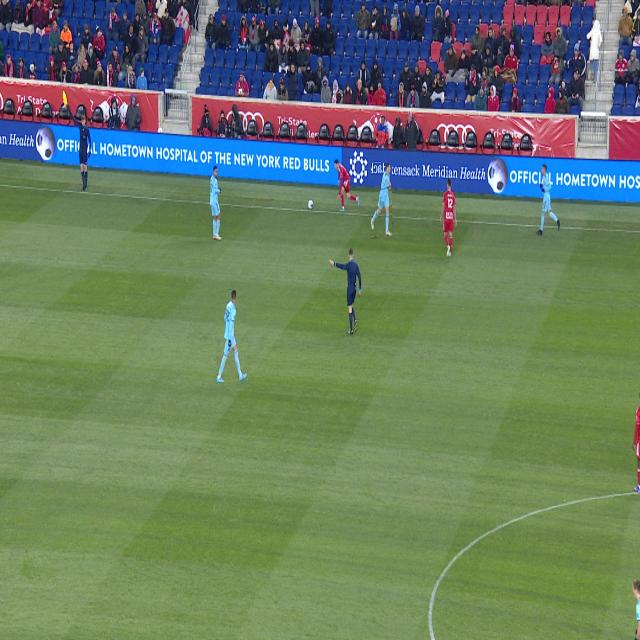player: (217, 290, 247, 383), (536, 165, 560, 236), (371, 163, 392, 236), (440, 179, 457, 257), (210, 166, 222, 240), (633, 407, 640, 492), (632, 579, 640, 640)
referee: (330, 248, 361, 334)
